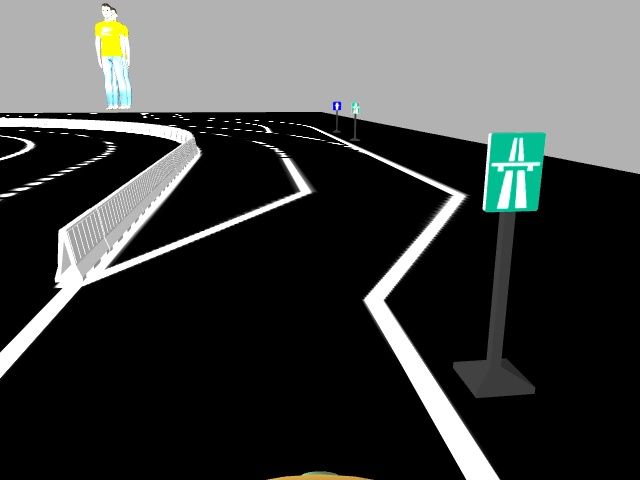HighwayEntrance: (483, 130, 542, 210)
